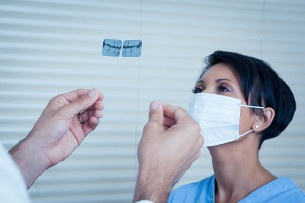Mask: (185, 73, 257, 146)
